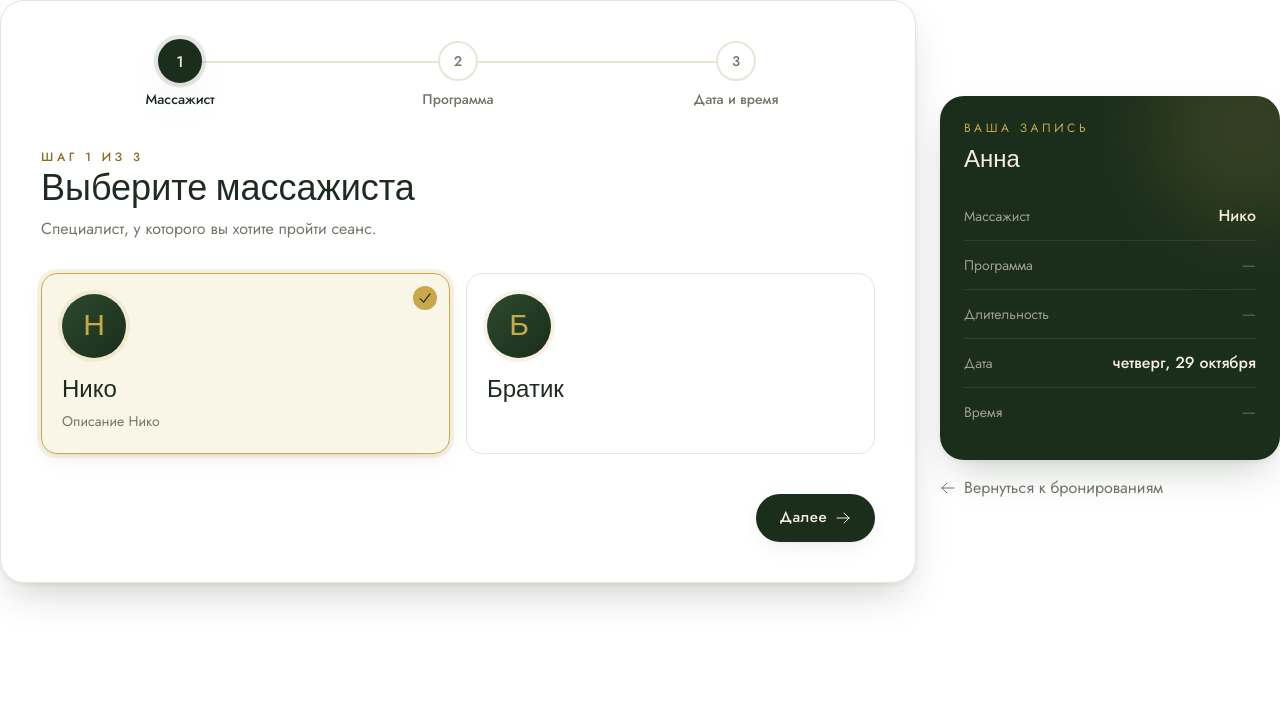
Test: CreateOrEditBookingForm › shows a friendly message when slots cannot be loaded
Click the button "Далее" at (815, 518), box 756,494 -> 875,542
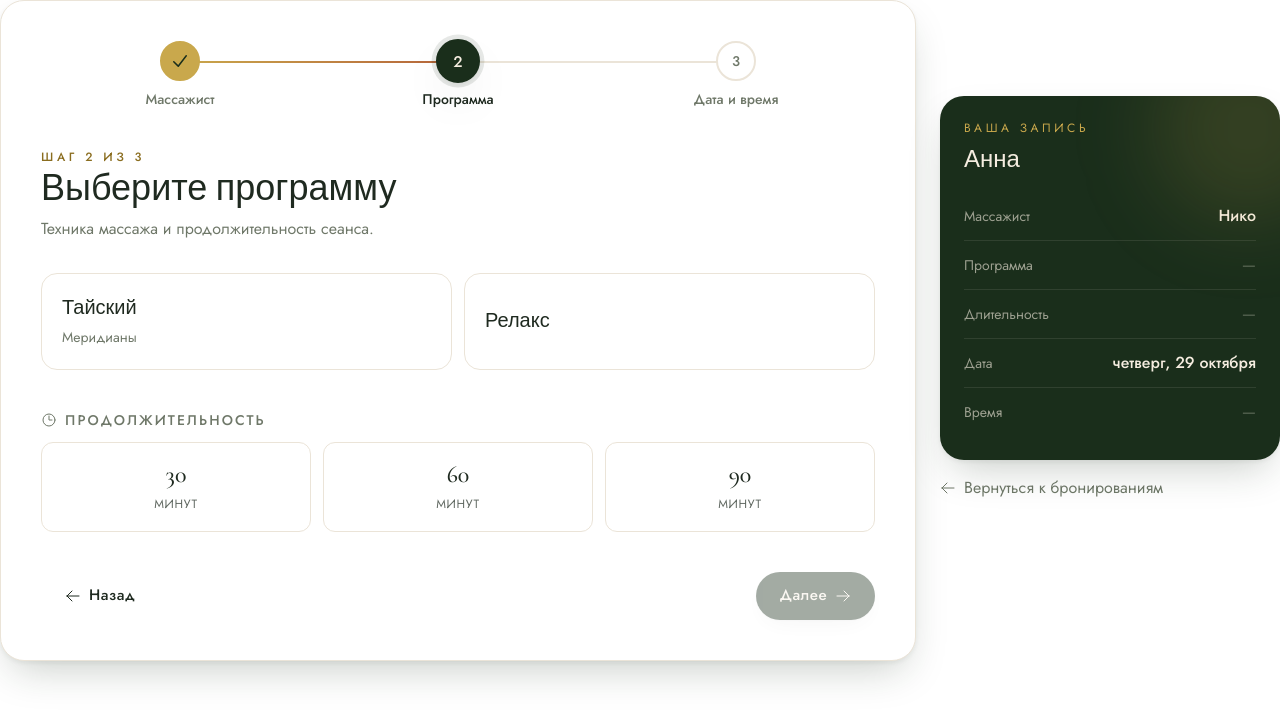
Click the button "Тайский Меридианы" at (99, 308), box 41,273 -> 452,370
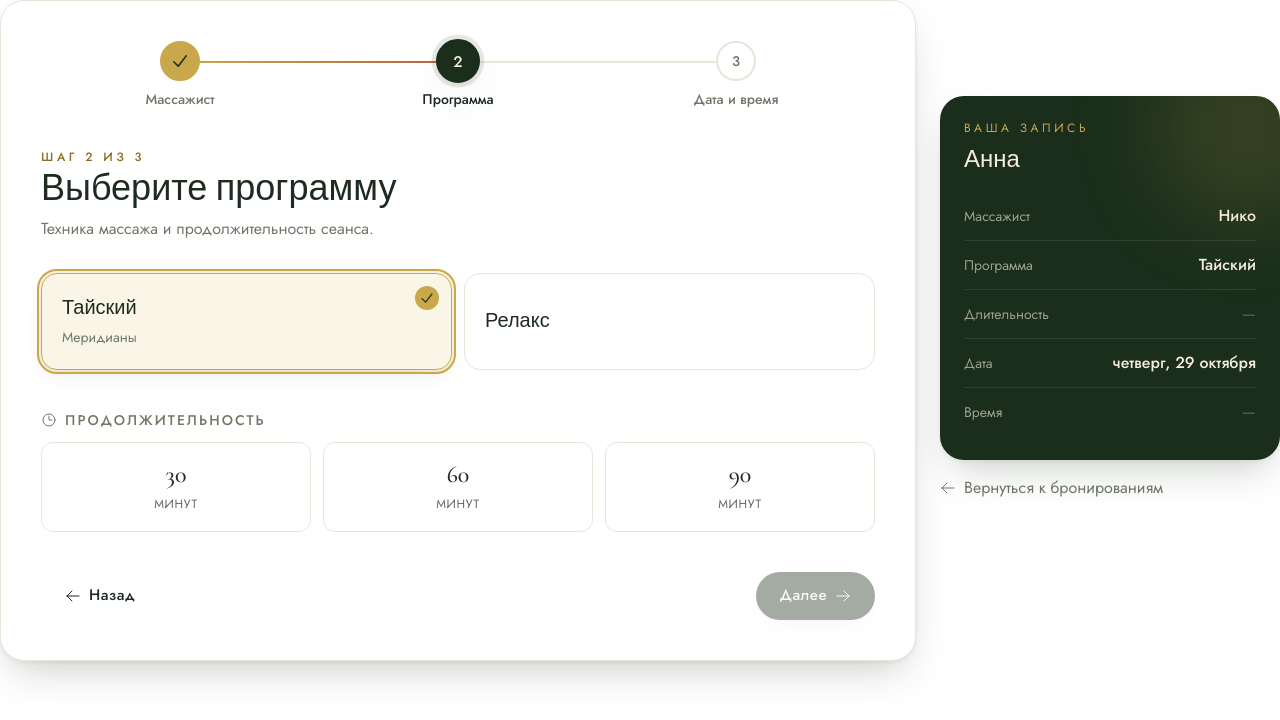
Click the button "60 минут" at (458, 487), box 323,442 -> 593,532
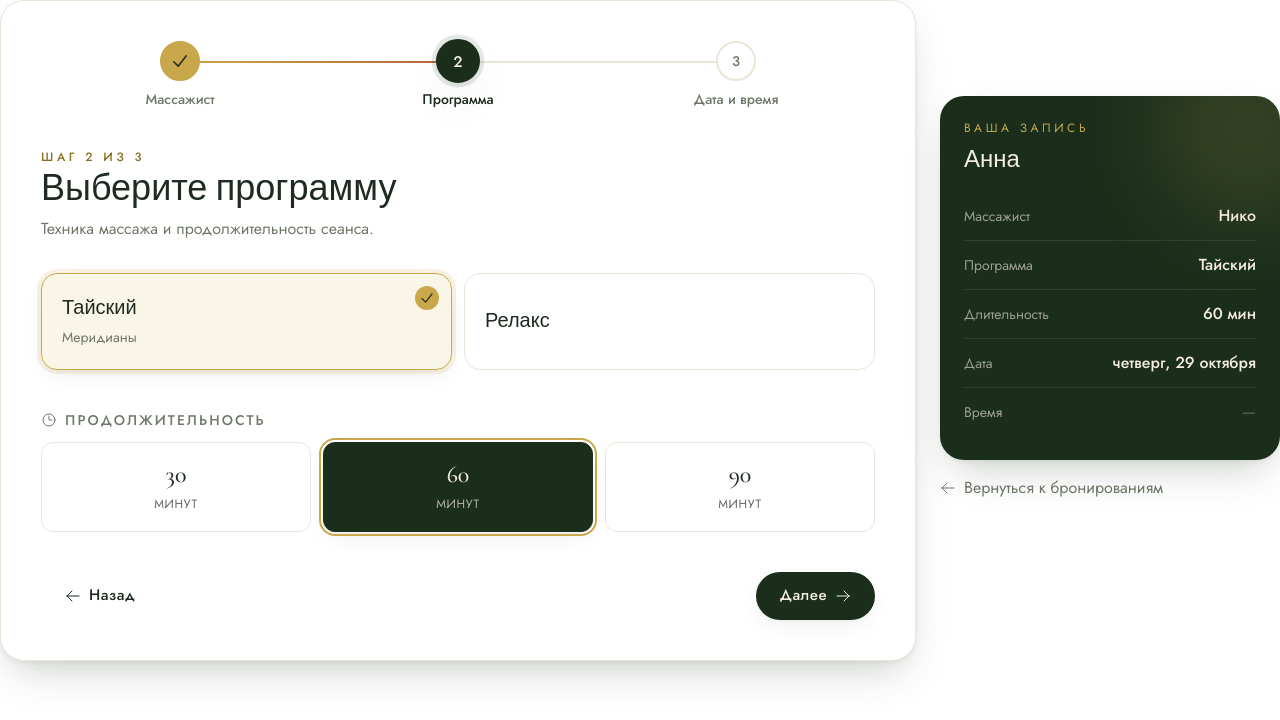
Click the button "Далее" at (815, 596), box 756,572 -> 875,620
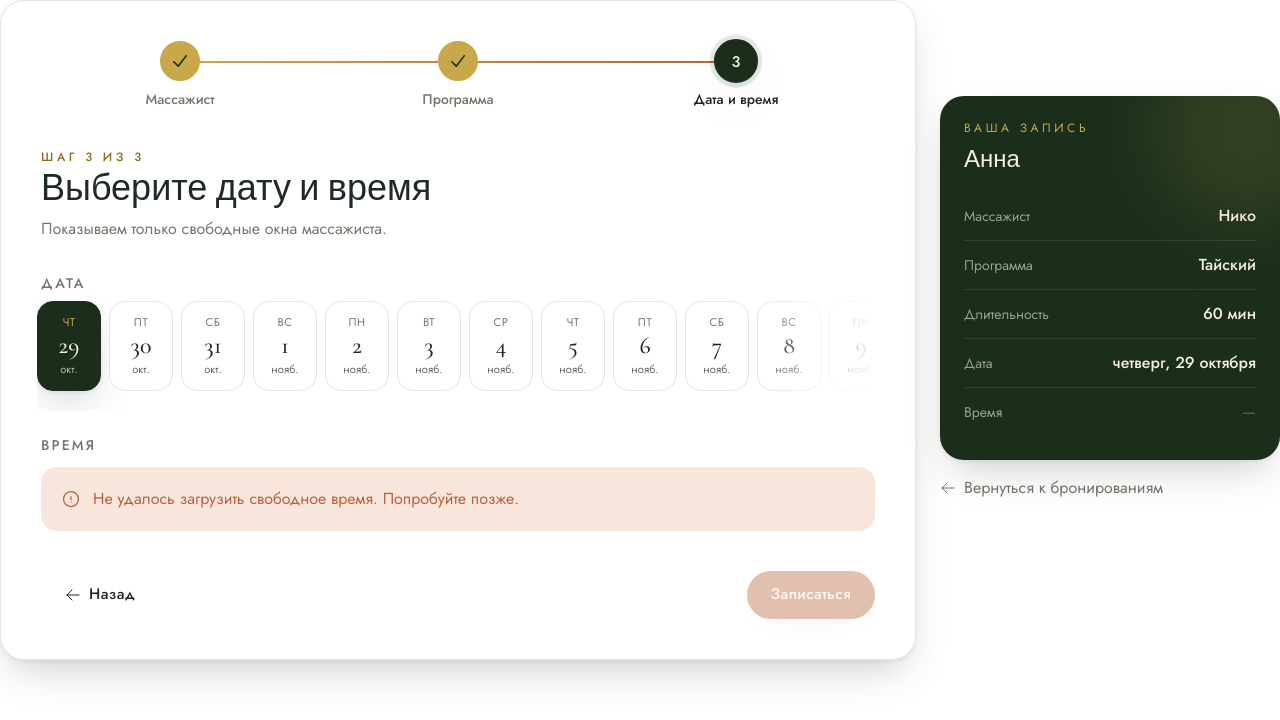
Now the text "Не удалось загрузить свободное время. Попробуйте позже." is shown, box 41,467 -> 875,531
